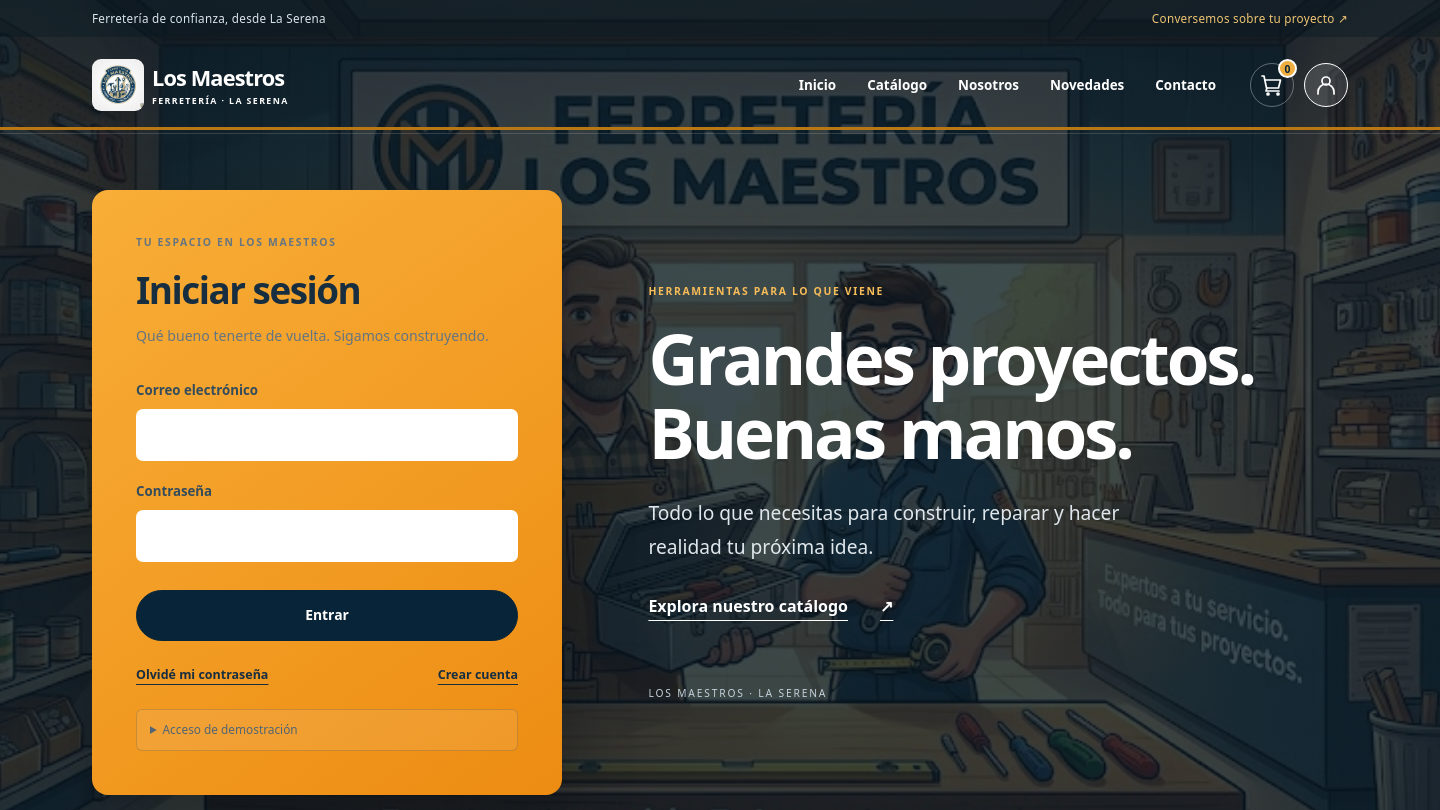
Scenario: rechaza credenciales incorrectas
In the field labelled "Correo electrónico": (327, 435) x1=136 y1=409 x2=518 y2=461, type "admin@losmaestros.cl"
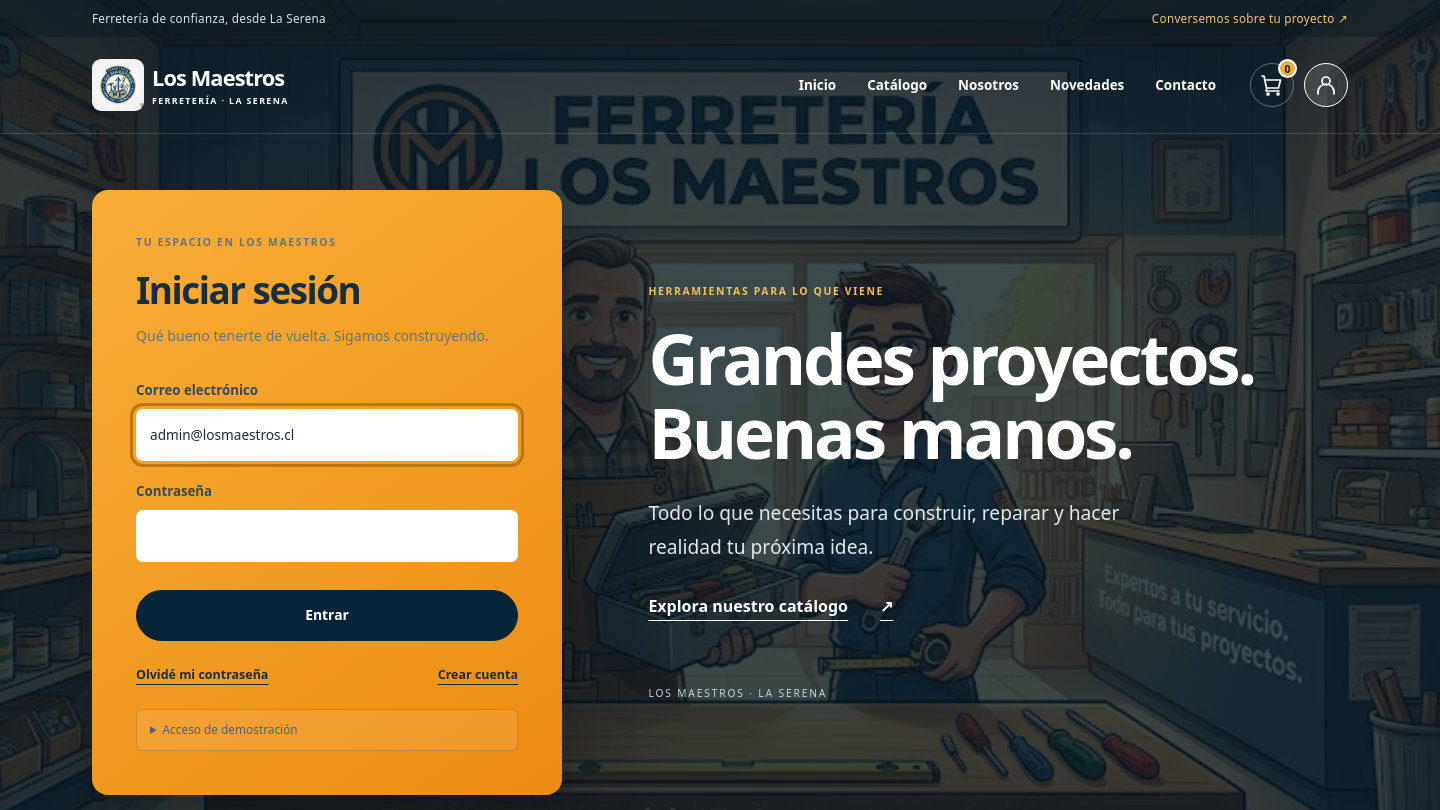
In the password field labelled "Contraseña": (327, 536) x1=136 y1=510 x2=518 y2=562, type "incorrecta"
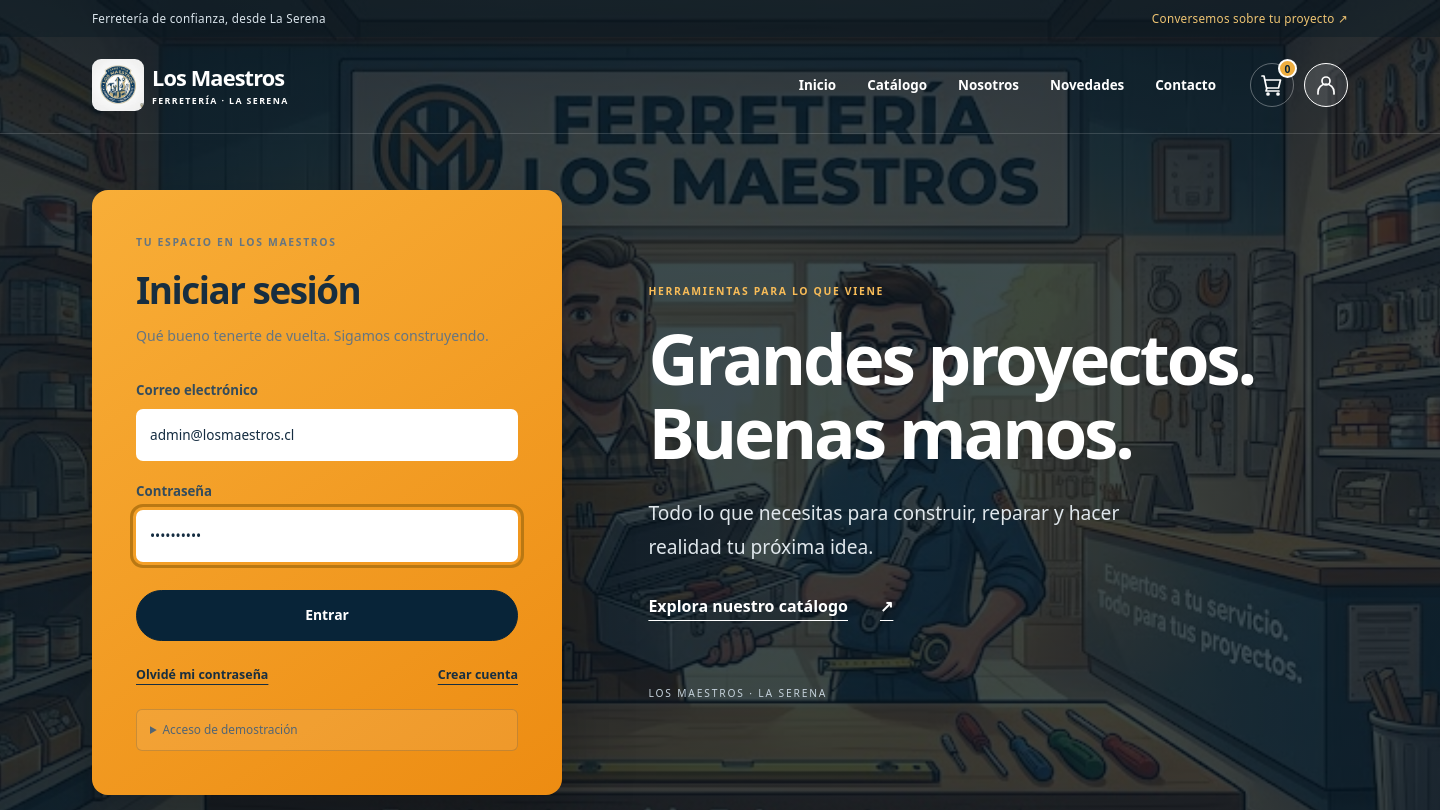
Click the button "Entrar": (327, 615) x1=136 y1=590 x2=518 y2=641
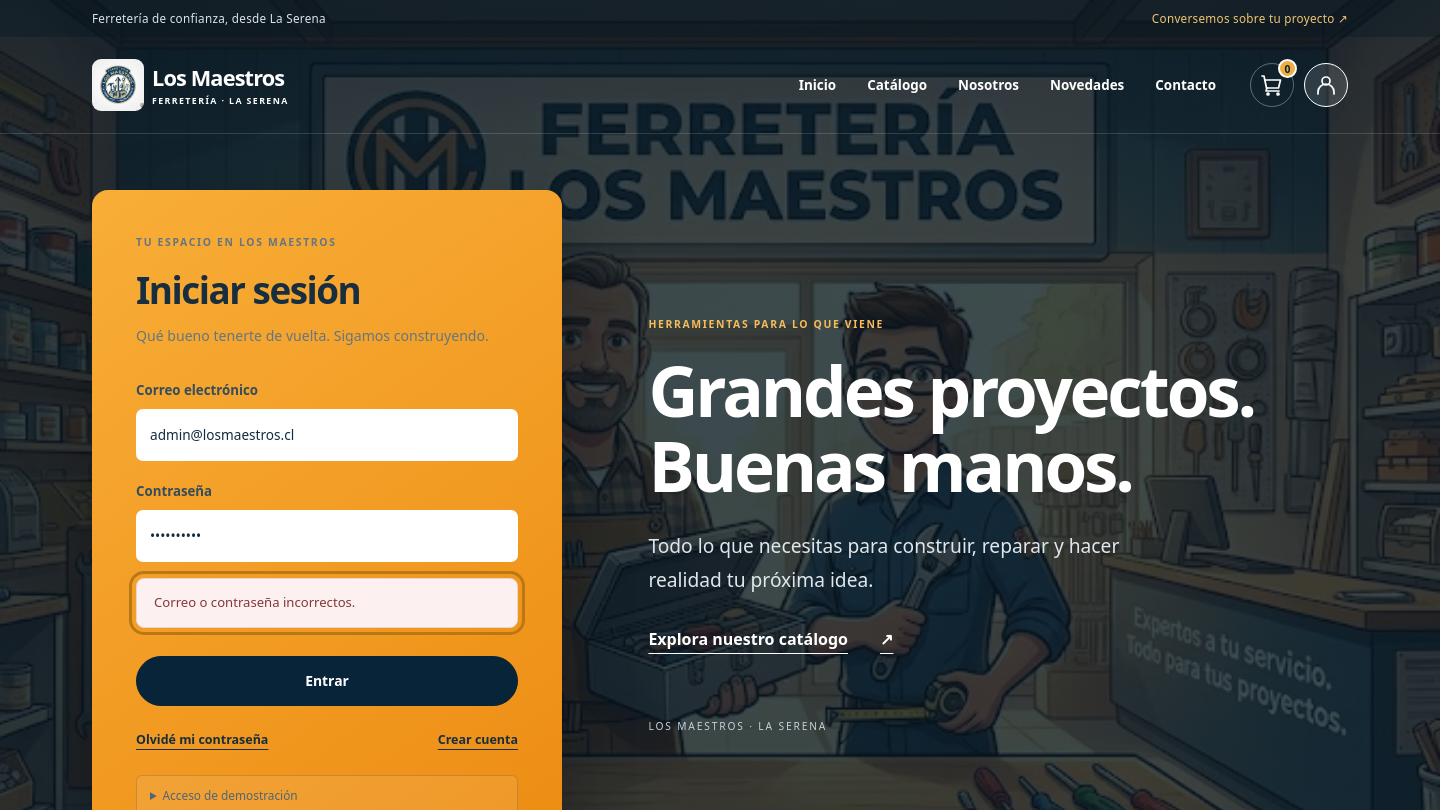
Expected: the message shows "Correo o contraseña incorrectos", x1=154 y1=593 x2=355 y2=611
